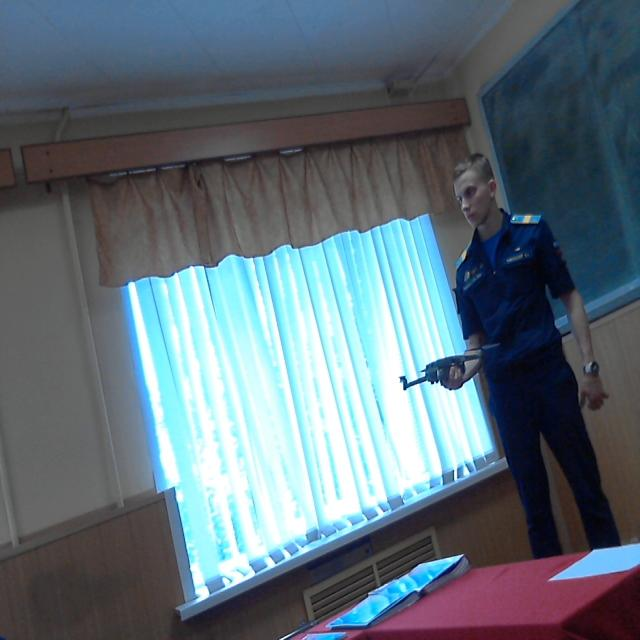drone: (390, 331, 502, 395)
